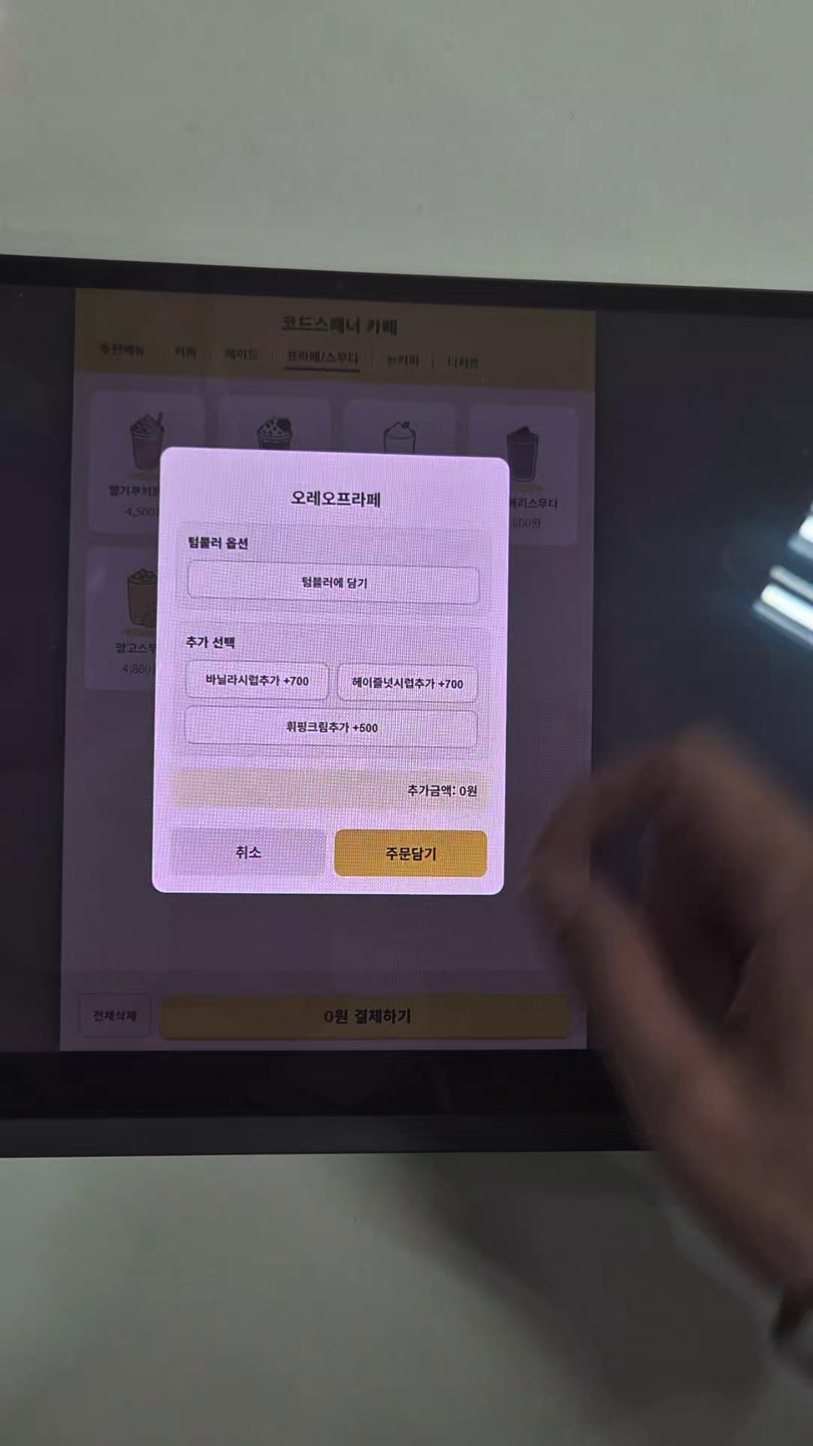action_button: (170, 829, 325, 876), (334, 830, 487, 877)
option_button: (187, 561, 480, 605), (185, 706, 477, 748), (185, 661, 330, 700), (337, 664, 478, 703)
popup_modal: (153, 446, 510, 896)
